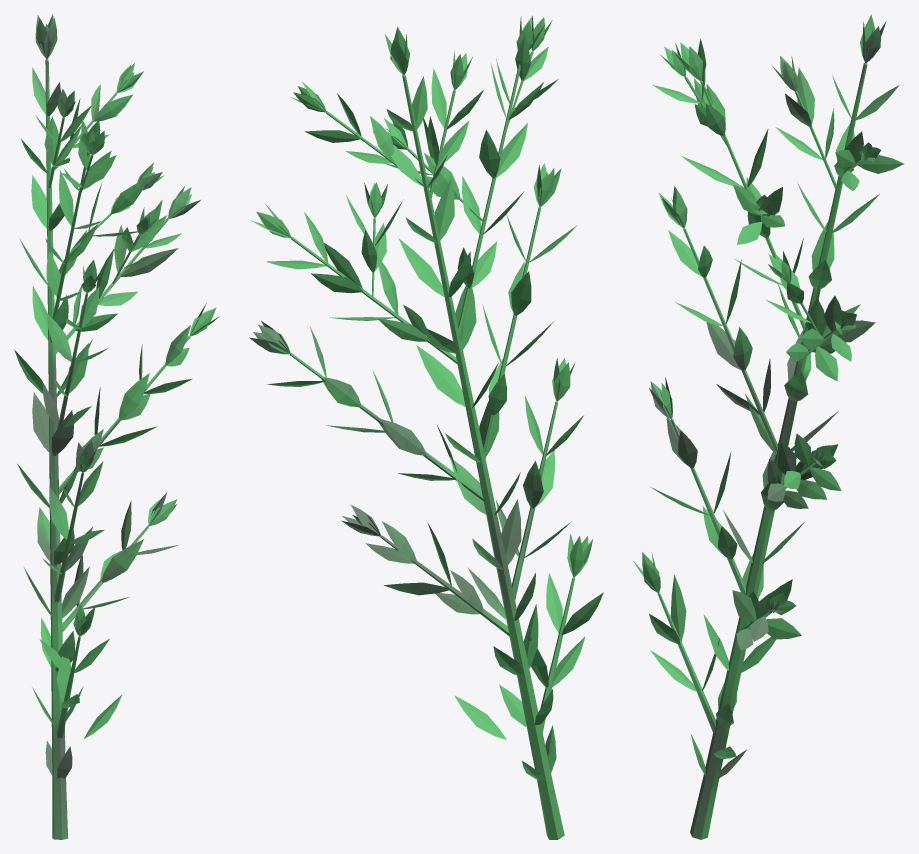
File: tomillo (1).fbx
3 views of the same model, side by side, from view 1: azimuth 30°, elevation 25°; view 2: azimuth 150°, elevation 25°; view 3: azimuth 270°, elevation 25° (orthographic). The views are drawn at different scales.
Visible parts, largest first — view 1: Rama_Tomillo; view 2: Rama_Tomillo; view 3: Rama_Tomillo.
Boxes of the visible parts, x1,y1,x2,y2 form: Rama_Tomillo: (14, 14, 219, 839); Rama_Tomillo: (249, 15, 603, 839); Rama_Tomillo: (633, 14, 903, 839).
Size of the model in its own units: 408 by 1194 by 345.
1 material, 1 textured.
